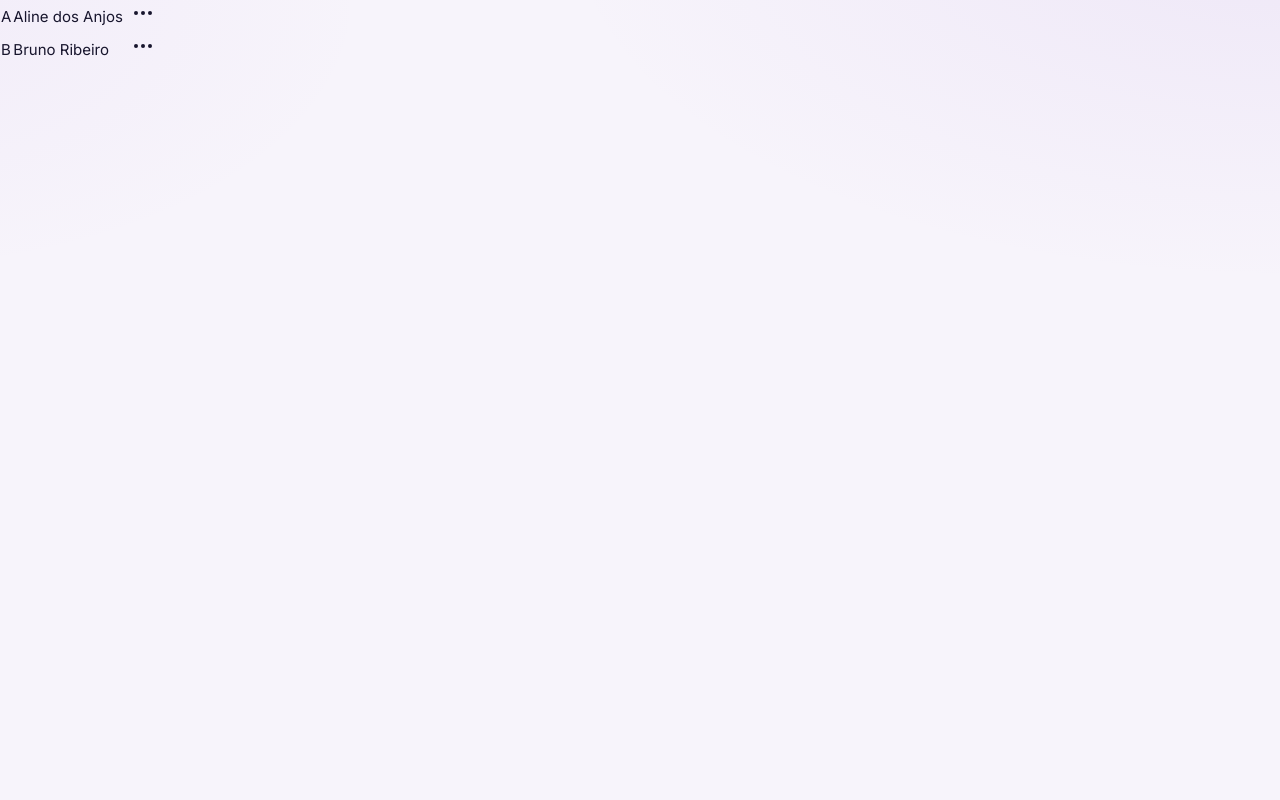
Test: Clique na linha do paciente abre o Sheet › clicar no nome abre o Sheet do paciente correto na aba Visão geral
The image size is (1280, 800).
Click the text with test id "name-p1" at (68, 16), box [13, 4, 123, 28]
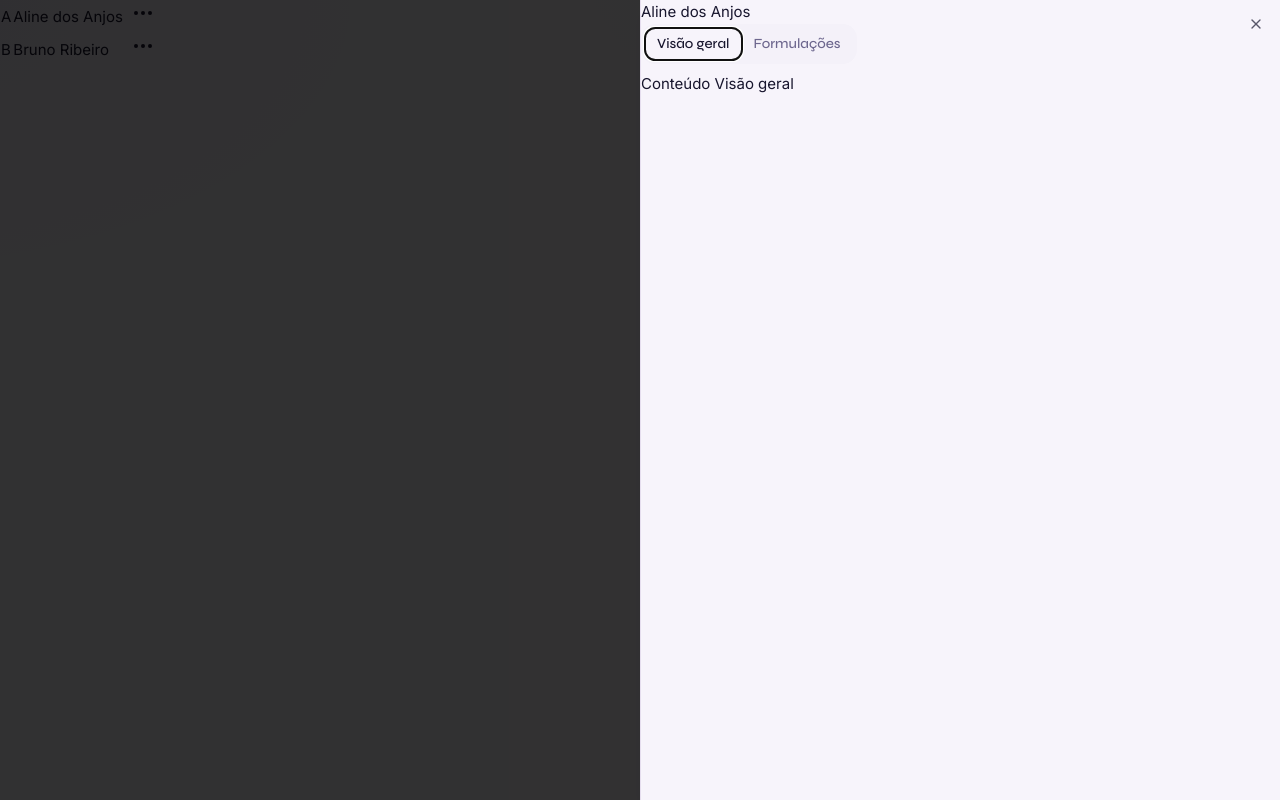
Check: the text with test id "sheet-name" reads "Aline dos Anjos", box [641, 2, 750, 21]
Check: the text "Conteúdo Visão geral" is shown, box [641, 74, 794, 93]
